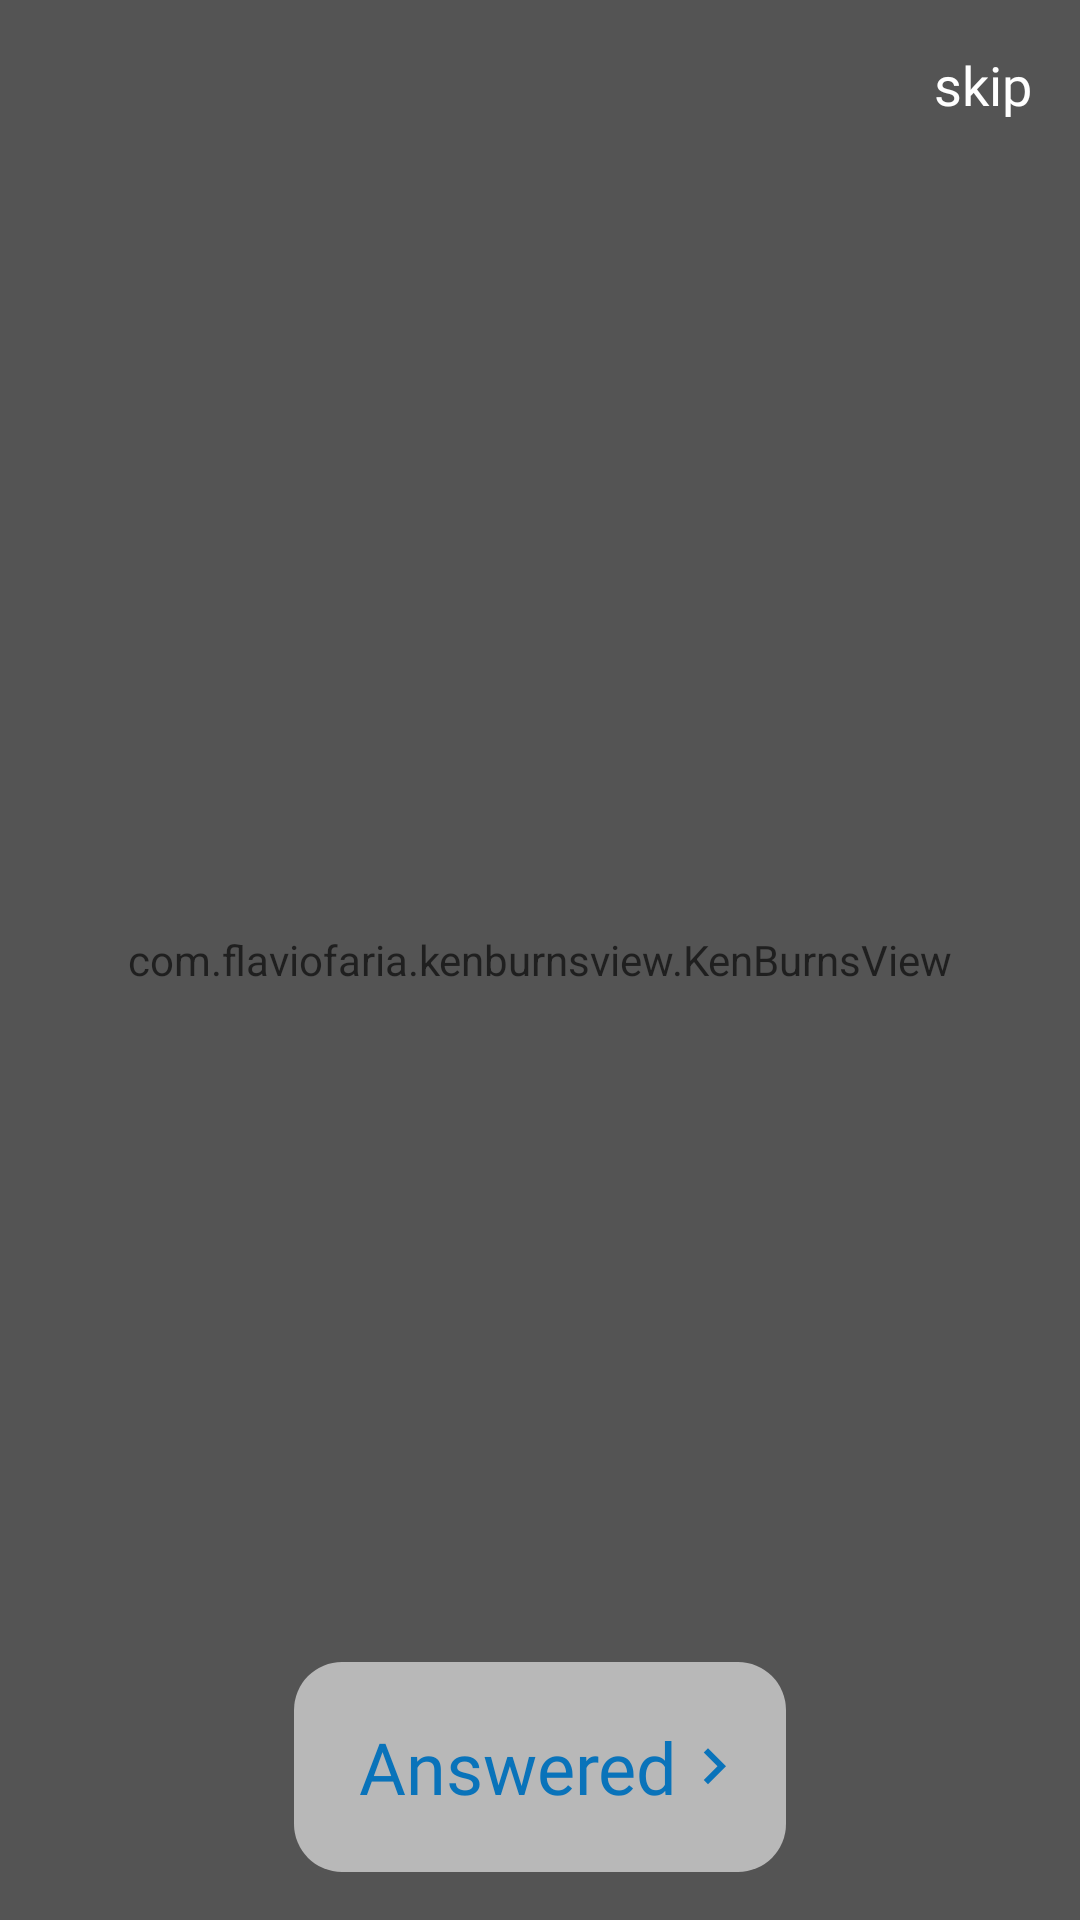

Icon bounding boxes for this 1080 × 1920 phone screenshot, format (x1, y1, x2, y2):
keyboard arrow right: (704, 1748, 726, 1784)
